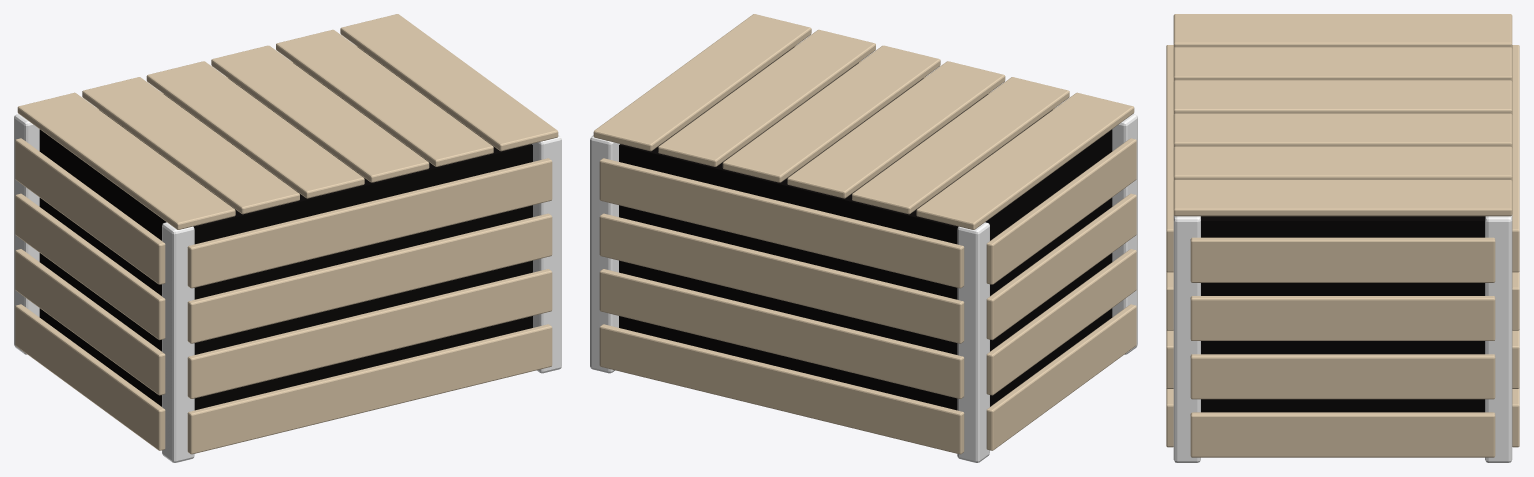
The model's file is crate.glb.
3 renders of one model, left to right at view 1: azimuth 30°, elevation 25°; view 2: azimuth 150°, elevation 25°; view 3: azimuth 270°, elevation 25°, orthographic. The views are drawn at different scales.
Parts seen in each view (by area): view 1: crate_mesh; view 2: crate_mesh; view 3: crate_mesh.
Part boxes in pixels (x1,y1,x2,y2): crate_mesh: [14, 14, 561, 462]; crate_mesh: [590, 14, 1137, 462]; crate_mesh: [1166, 14, 1519, 462].
Bounding box in the file's own units: 1.44 × 0.8245 × 1.04.
